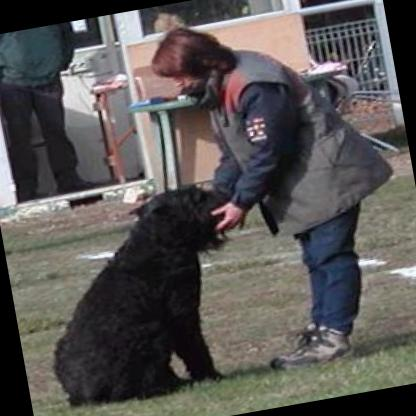Bouvier_des_Flandres: (23, 180, 260, 406)
